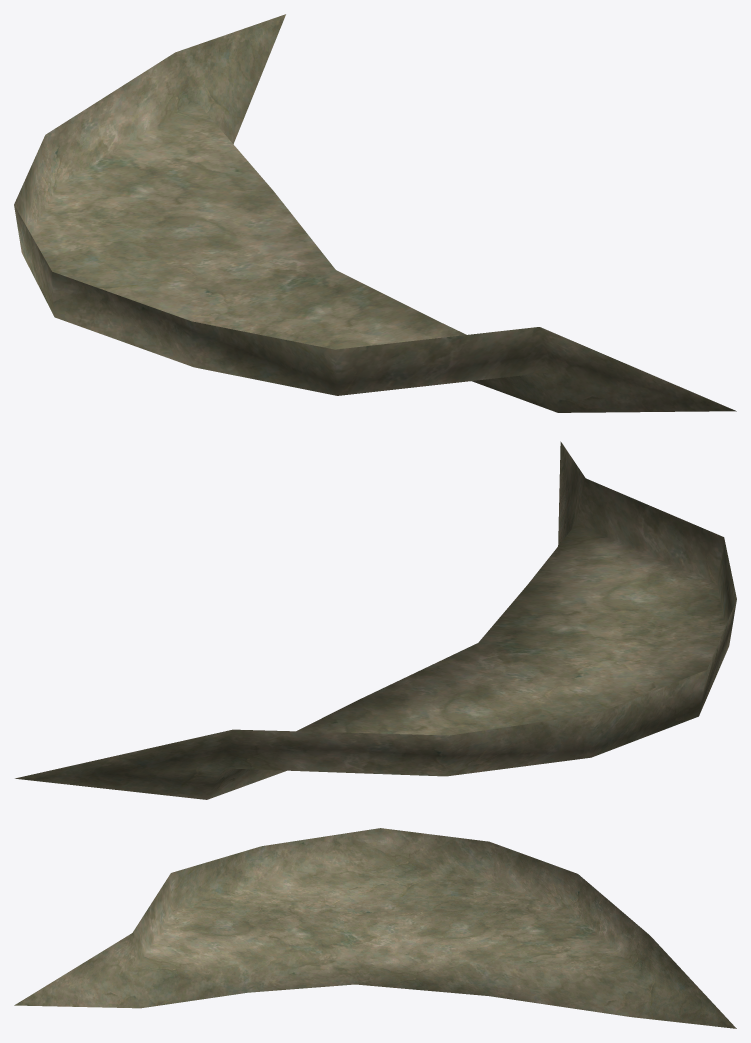
Rendered from EKH_THRONE_PS_TH_PLATFORM_675.fbx.
3 views of the same model, one above another, from view 1: azimuth 30°, elevation 25°; view 2: azimuth 150°, elevation 25°; view 3: azimuth 270°, elevation 25° (orthographic). The views are drawn at different scales.
Parts seen in each view (by area): view 1: EKH_THRONE_PS_TH_PLATFORM_675; view 2: EKH_THRONE_PS_TH_PLATFORM_675; view 3: EKH_THRONE_PS_TH_PLATFORM_675.
Part boxes in pixels (<box>): EKH_THRONE_PS_TH_PLATFORM_675: <box>14,14,736,412</box>; EKH_THRONE_PS_TH_PLATFORM_675: <box>15,441,736,799</box>; EKH_THRONE_PS_TH_PLATFORM_675: <box>14,828,736,1028</box>.
Size of the model in its own units: 33075 by 6218 by 60720.
1 material, 1 textured.
